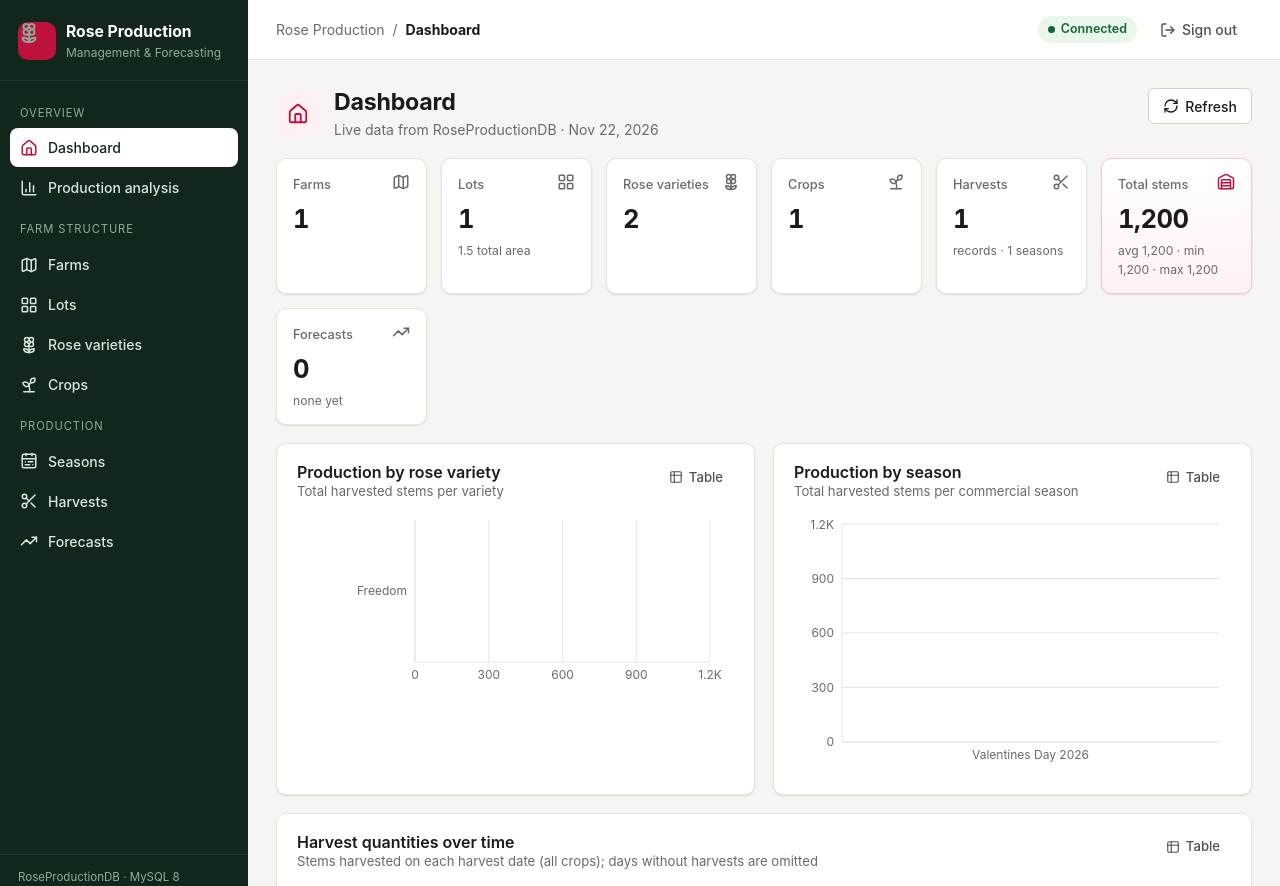
Test case: authentication › signs out
The image size is (1280, 886).
Expected: the heading "Dashboard" is shown, [334,88,456,116]
Click the button "Sign out" at (1198, 30), box [1145,12,1252,48]
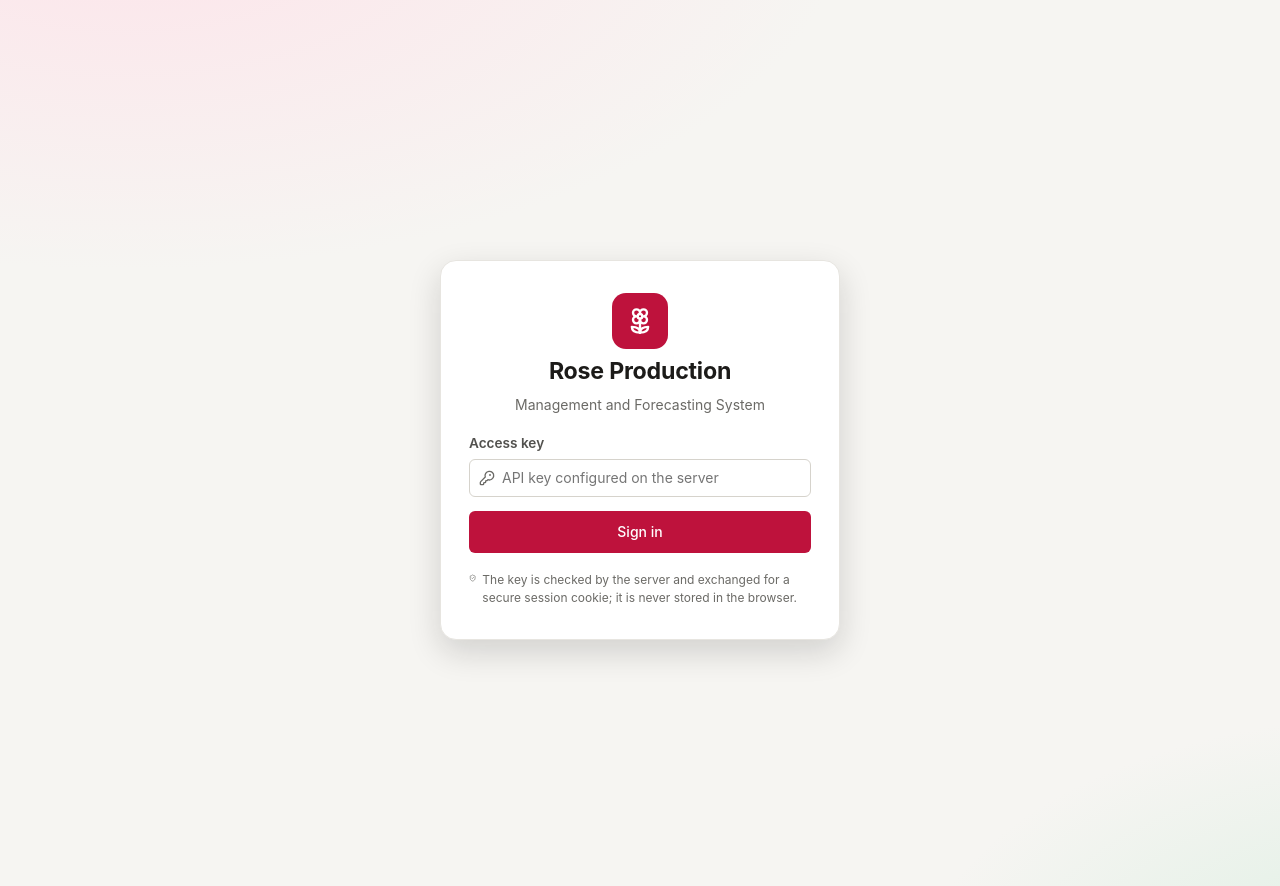
Expected: the password field labelled "Access key" is shown, [469,459,811,497]
